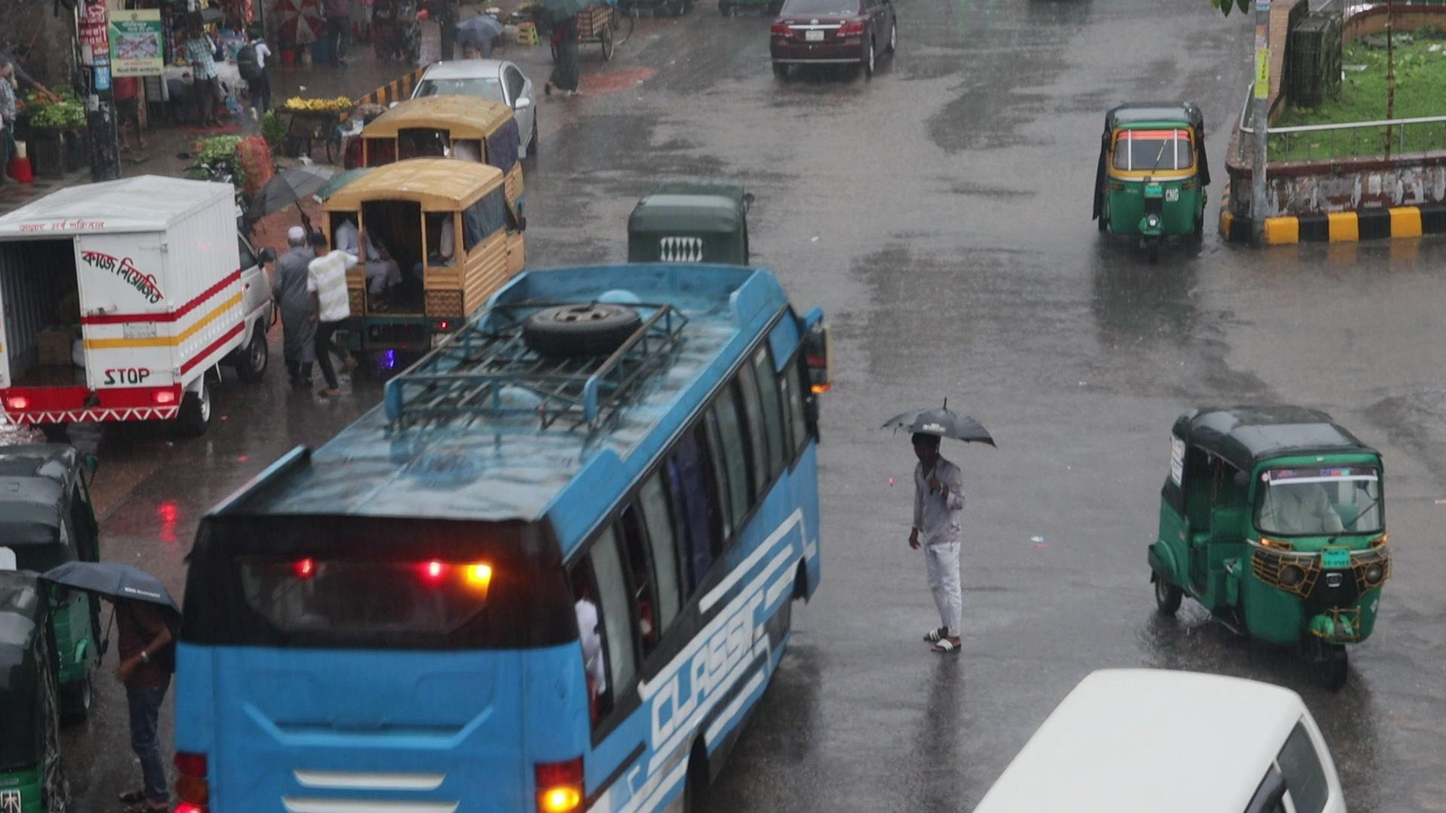Bus: (167, 264, 821, 813)
Car: (757, 0, 901, 96)
Truck: (309, 155, 522, 384)
